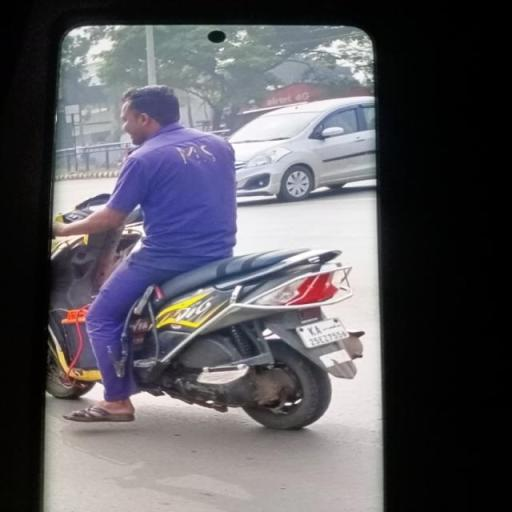bike: (52, 78, 365, 432)
numberplate: (288, 304, 356, 353)
withouthelmet: (123, 85, 179, 138)
